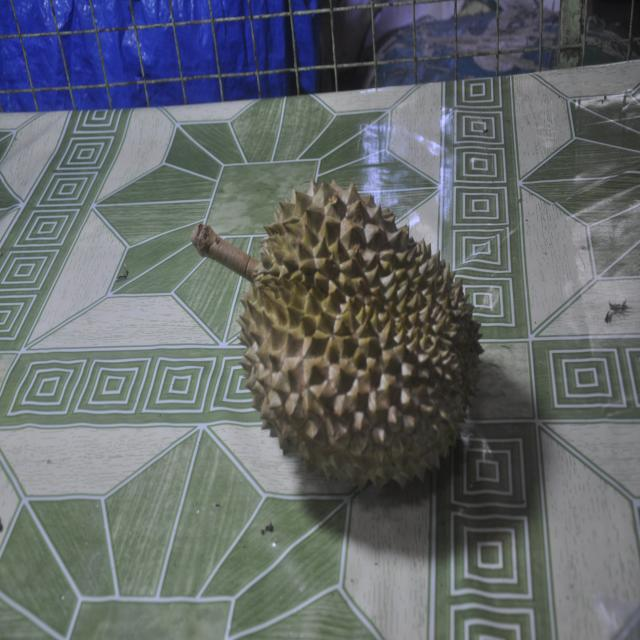mature: (185, 162, 493, 506)
